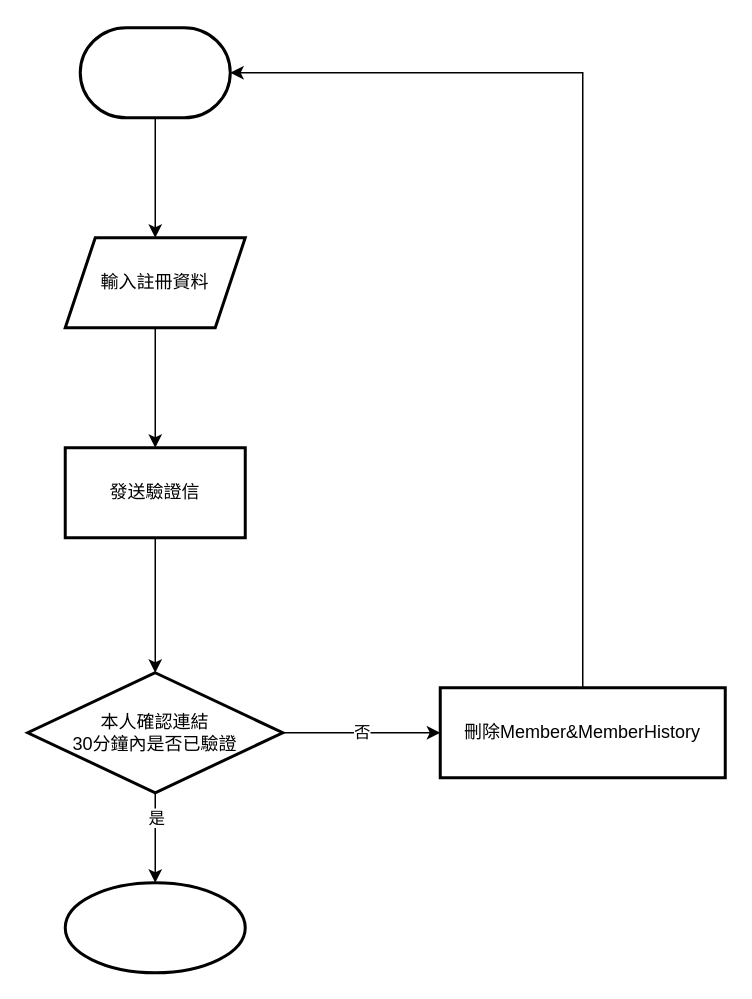
The diagram is 752 pixels wide and 999 high, and some of its shapes have lost their labels. The shapes that lost their labels are listed below. From the top down, each one's centre as x and y in pixels, then its label:
At (154,72): "註冊".
At (154,927): "註冊成功".
